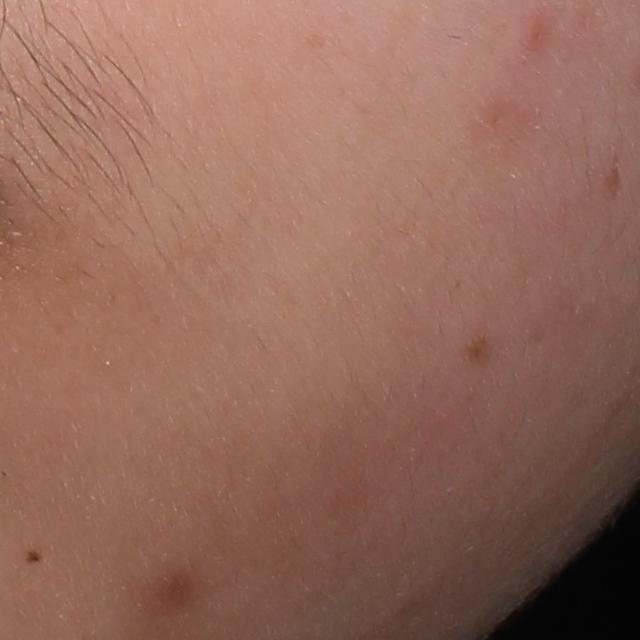nevus: (25, 549, 43, 564)
